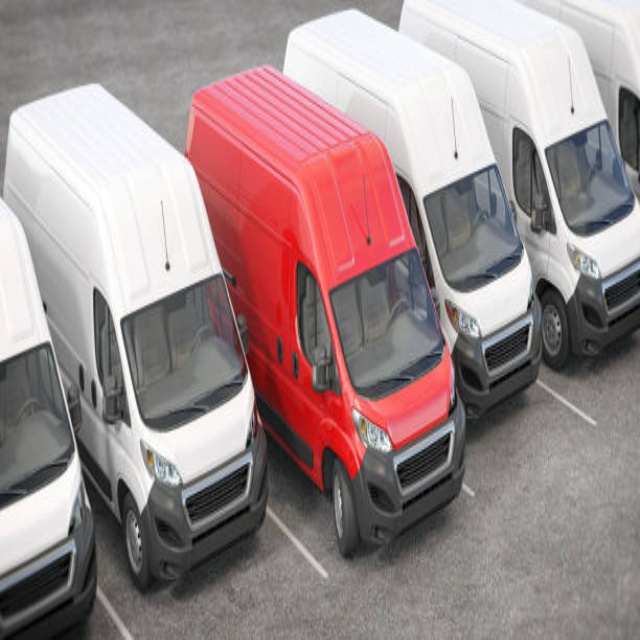Van: (183, 63, 466, 558), (2, 82, 270, 596), (280, 8, 544, 425), (397, 2, 640, 370), (1, 201, 97, 640)
